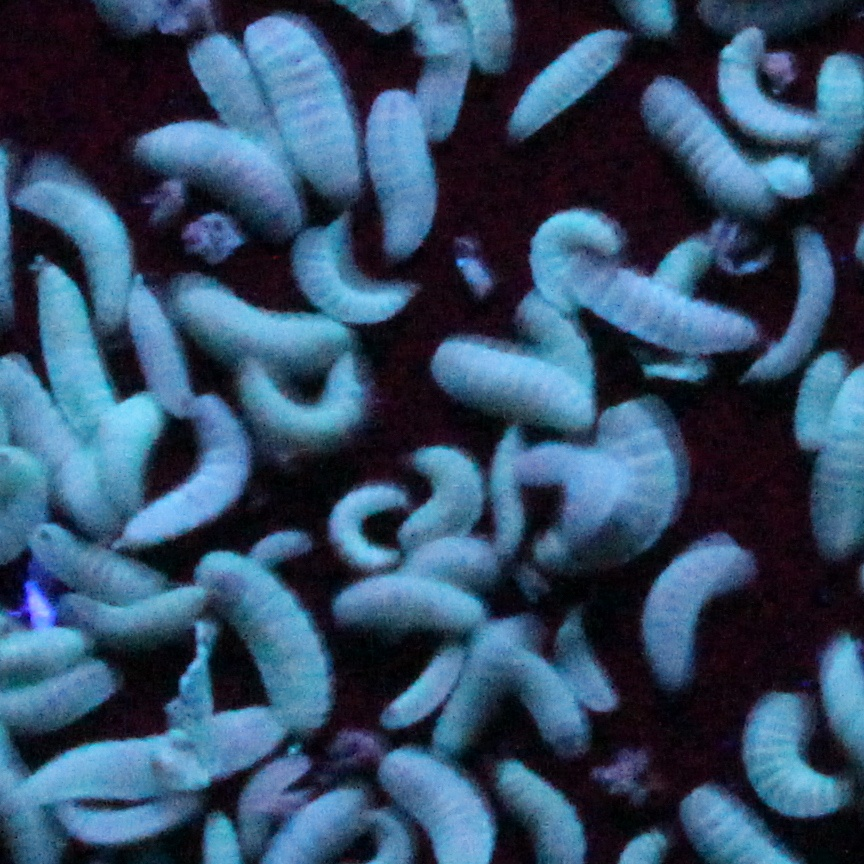larve: (552, 234, 764, 364), (201, 544, 334, 739), (21, 706, 294, 800), (118, 390, 254, 552), (247, 15, 361, 204), (8, 167, 136, 334), (131, 119, 307, 237), (184, 30, 305, 194), (571, 396, 682, 574), (642, 523, 755, 693), (30, 257, 120, 456), (179, 274, 356, 374), (431, 334, 596, 440), (748, 218, 844, 394), (646, 76, 772, 208), (352, 88, 446, 258), (495, 436, 624, 555), (741, 688, 856, 819), (512, 24, 634, 138), (434, 616, 534, 754), (718, 28, 832, 138), (299, 226, 414, 324), (32, 528, 175, 605), (240, 362, 367, 448), (330, 575, 486, 643), (129, 277, 201, 417), (532, 208, 624, 314), (46, 798, 225, 852), (504, 649, 590, 755), (91, 394, 159, 527), (409, 449, 485, 549), (794, 336, 850, 460), (385, 648, 464, 726), (330, 484, 405, 566), (560, 613, 619, 715), (486, 427, 529, 565), (650, 232, 710, 316), (411, 533, 495, 582), (250, 532, 312, 563)
